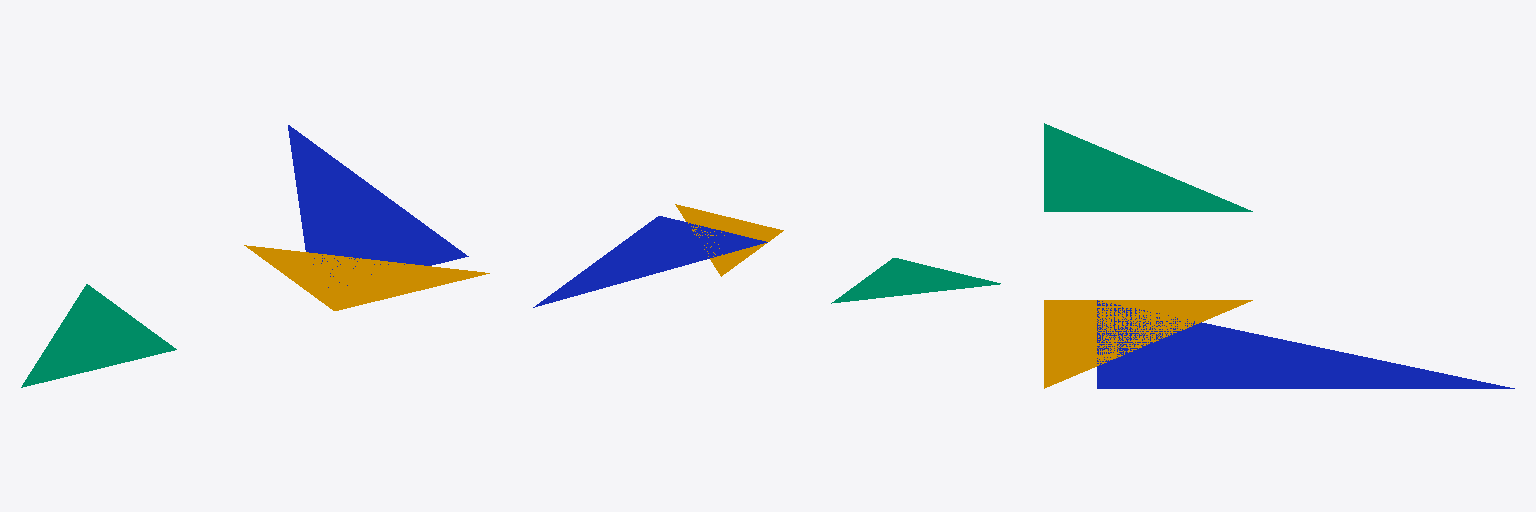
URDF robot description (articulated):
<?xml version="1.0"?>
<robot name="articulated">
  <material name="blue"><color rgba="0.1 0.2 0.8 1"/></material>
  <link name="base">
    <visual><geometry><mesh filename="triangle.obj"/></geometry></visual>
    <collision><origin xyz="0.1 0 0"/><geometry><box size="1 0.5 0.2"/></geometry></collision>
  </link>
  <link name="fixed">
    <visual><origin xyz="0.25 0 0"/><geometry><mesh filename="triangle.obj" scale="2 1 1"/></geometry><material name="blue"/></visual>
  </link>
  <link name="leg">
    <visual><geometry><mesh filename="triangle.obj"/></geometry></visual>
    <collision><origin xyz="0 0 0.2"/><geometry><sphere radius="0.1"/></geometry></collision>
  </link>
  <joint name="fixed_joint" type="fixed">
    <parent link="base"/><child link="fixed"/><origin xyz="1 0 0" rpy="0 0 1.5707963267948966"/>
  </joint>
  <joint name="leg_joint" type="revolute">
    <parent link="fixed"/><child link="leg"/><origin xyz="0 2 0"/><axis xyz="0 2 0"/>
  </joint>
</robot>

--- What the picture shows (computed from the rendered views, not written in the file) ---
The picture shows the robot from 3 angles, left to right: view 1: azimuth 30°, elevation 25°; view 2: azimuth 150°, elevation 25°; view 3: azimuth 270°, elevation 25°; orthographic projection.
Model articulated with 3 links and 2 joints (1 revolute, 1 fixed), rooted at base, posed every joint at zero.
Links seen in each view (by area): view 1: fixed, leg, base; view 2: fixed, leg, base; view 3: fixed, leg, base.
Link boxes in pixels (x1,y1,x2,y2): fixed: [288, 125, 468, 287]; leg: [21, 284, 176, 387]; base: [244, 245, 489, 310]; fixed: [533, 216, 767, 307]; leg: [831, 258, 1000, 303]; base: [675, 204, 783, 276]; fixed: [1097, 300, 1514, 388]; leg: [1044, 123, 1252, 211]; base: [1044, 300, 1252, 388].
Bounding box of the posed robot: 3 × 2.25 × 0 m (x, y, z).
Meshes: 1 distinct files referenced, 3 mesh visuals loaded (1 OBJ).
